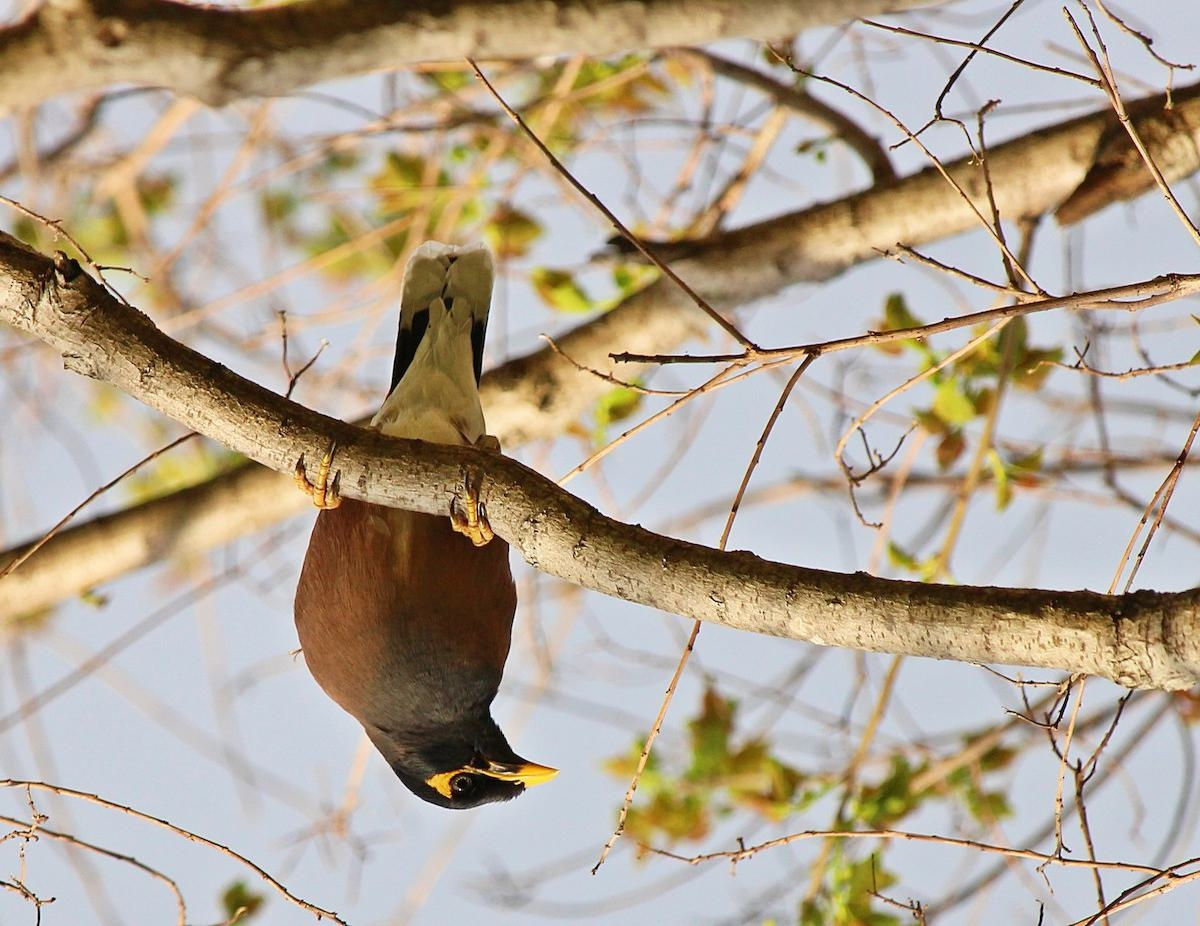myna: (255, 231, 590, 840)
